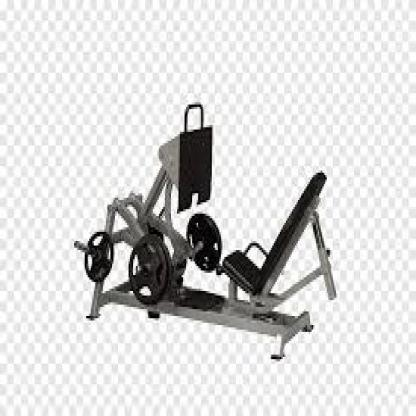leg press: (63, 88, 356, 379)
